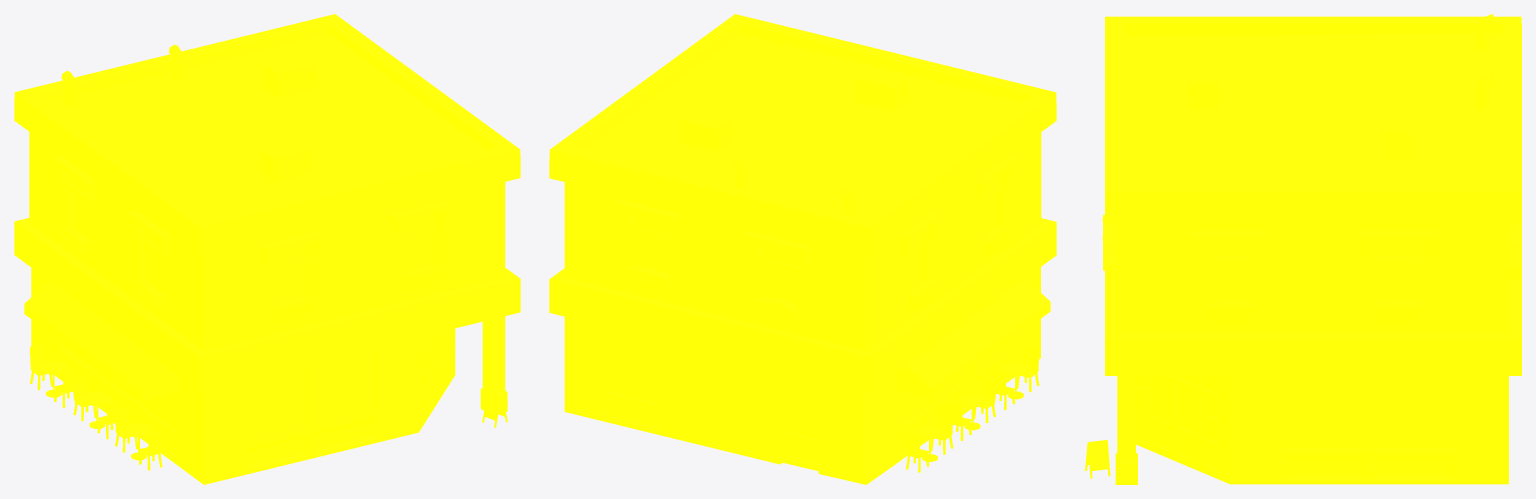
File: building-cafe.glb
3 renders of one model, left to right at view 1: azimuth 30°, elevation 25°; view 2: azimuth 150°, elevation 25°; view 3: azimuth 270°, elevation 25°, orthographic. The views are drawn at different scales.
Parts seen in each view (by area): view 1: building-cafe; view 2: building-cafe; view 3: building-cafe.
Boxes of the visible parts, x1,y1,x2,y2 form: building-cafe: (14, 14, 520, 484); building-cafe: (549, 14, 1056, 484); building-cafe: (1085, 14, 1521, 484).
Bounding box in the file's own units: 10.85 × 8.49 × 10.48.
Materials: 1 (1 with a texture image).
